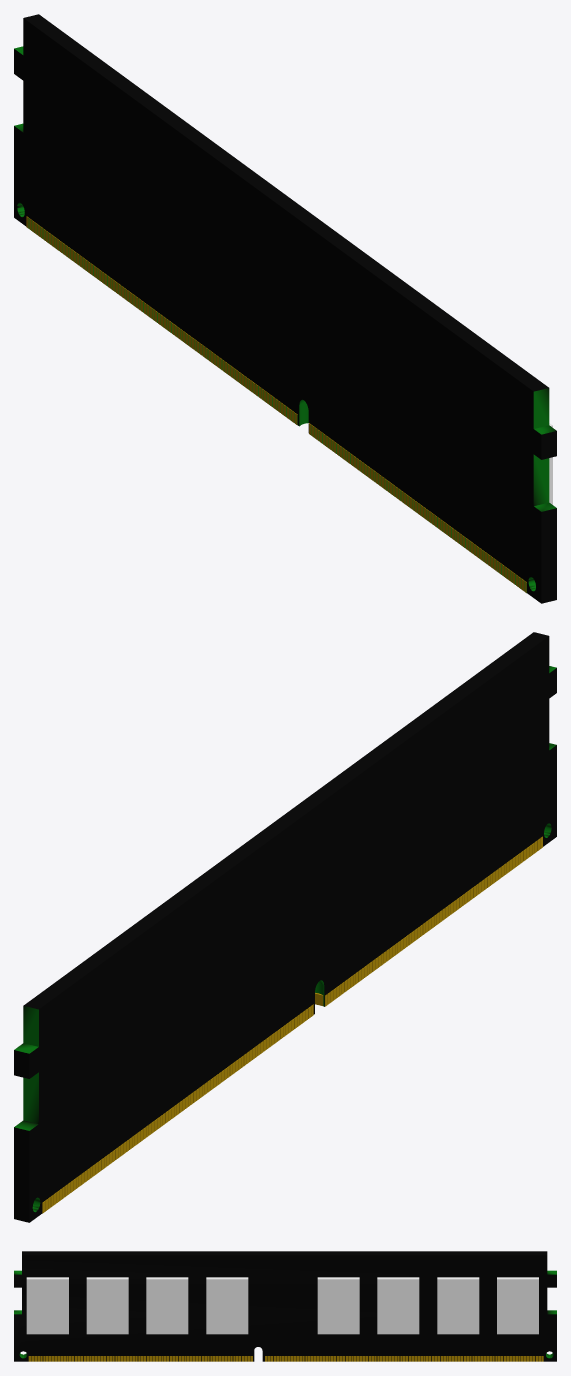
File: Ram.FBX
3 views of the same model, one above another, from view 1: azimuth 30°, elevation 25°; view 2: azimuth 150°, elevation 25°; view 3: azimuth 270°, elevation 25° (orthographic). The views are drawn at different scales.
Visible parts, largest first — view 1: Ram_Body; view 2: Ram_Body; view 3: Ram_Body.
Part boxes in pixels (left/top/right/bottom): Ram_Body: left=14, top=14, right=556, bottom=603; Ram_Body: left=14, top=632, right=556, bottom=1222; Ram_Body: left=14, top=1251, right=556, bottom=1361.
Size of the model in its own units: 0.265 by 2.16 by 10.
